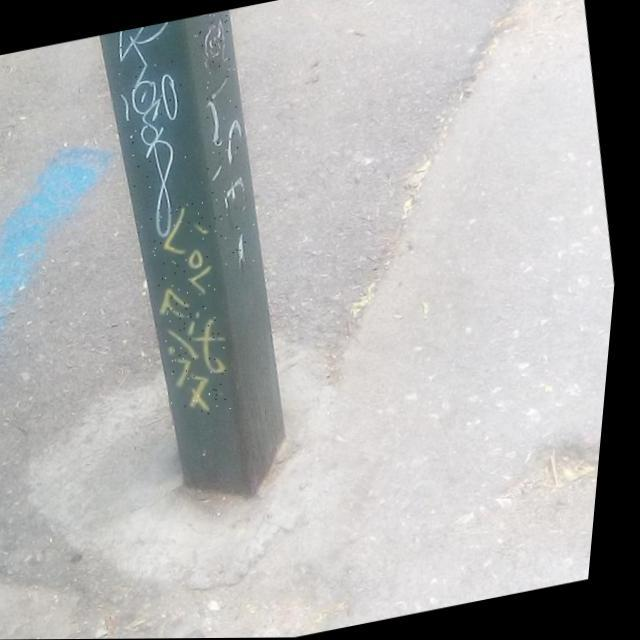-: (174, 9, 280, 271), (138, 199, 256, 425), (100, 20, 217, 245)
